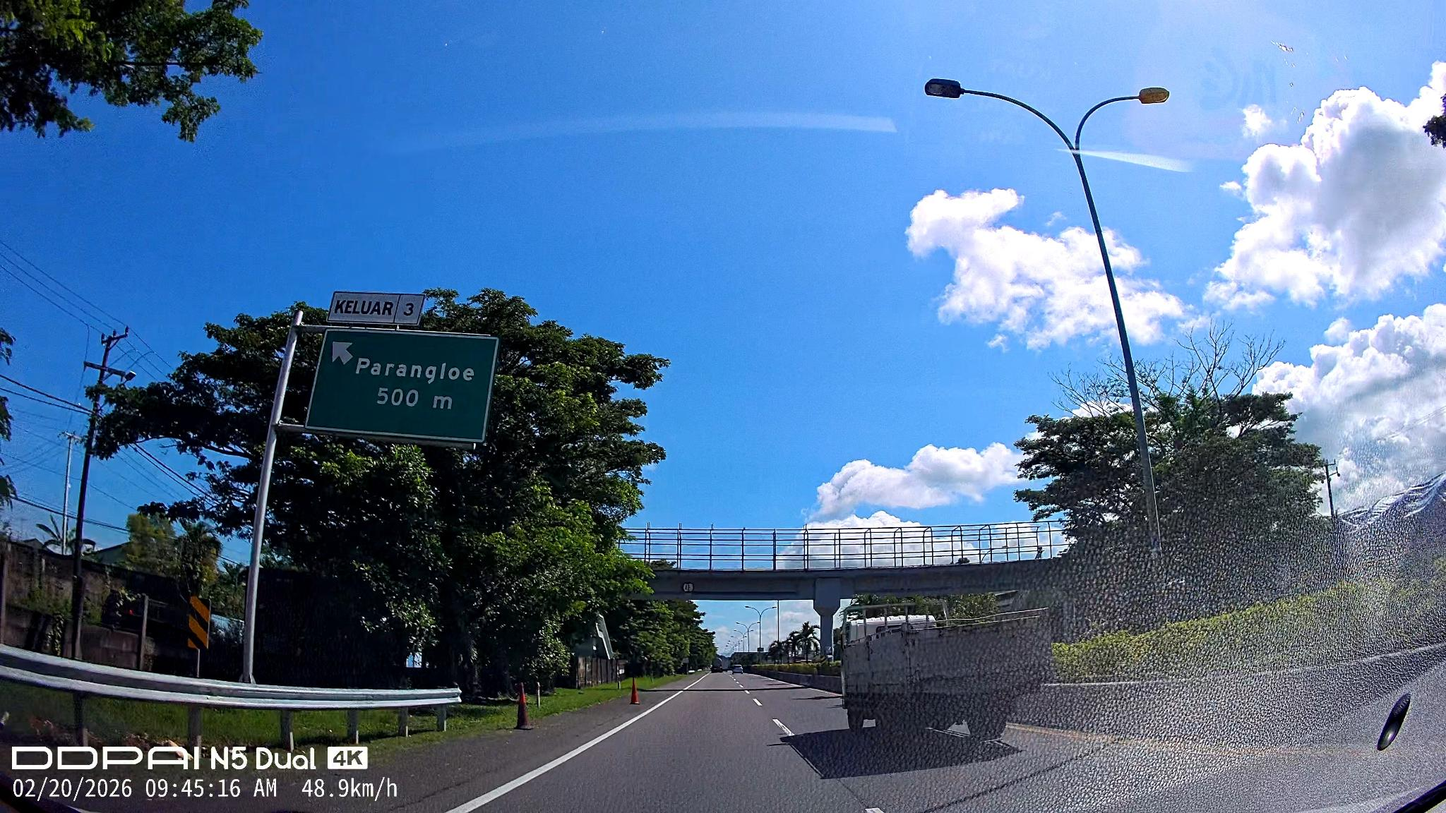rambu_teks: (303, 326, 500, 445)
